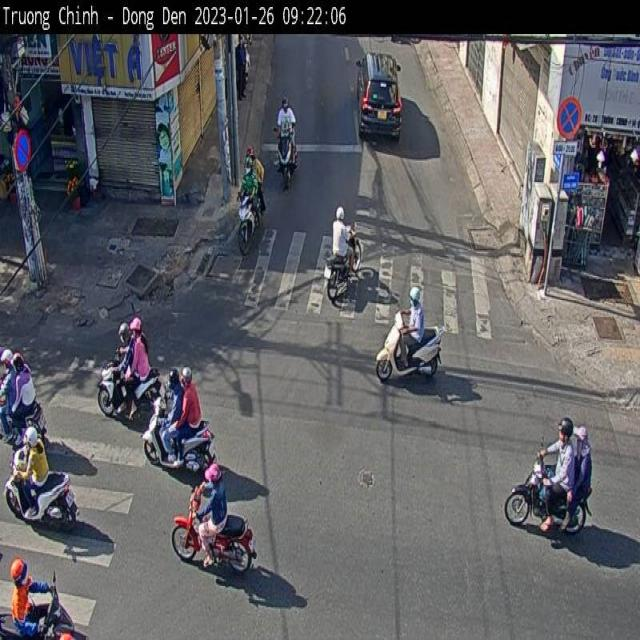with_helmet: (406, 280, 428, 316), (10, 336, 28, 379), (201, 461, 223, 492), (21, 426, 41, 460), (557, 411, 574, 447), (332, 198, 350, 231), (116, 320, 131, 357), (10, 560, 28, 589), (180, 365, 194, 401), (274, 93, 293, 119), (128, 310, 143, 342), (240, 158, 260, 182), (2, 342, 15, 376), (168, 369, 179, 390)
without_helmet: (576, 419, 595, 467)
